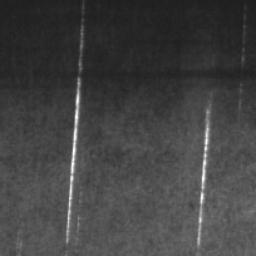Bright scratch: (66, 0, 86, 243), (198, 96, 212, 246), (238, 0, 247, 110)
